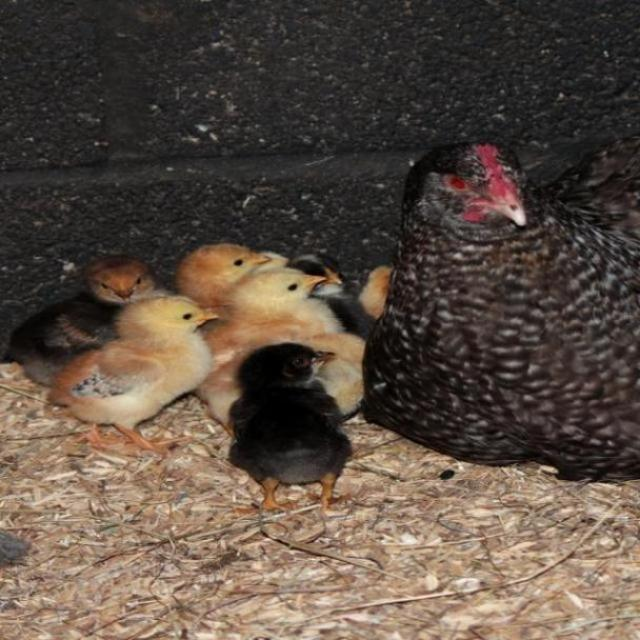Chicken: (5, 142, 640, 511)
